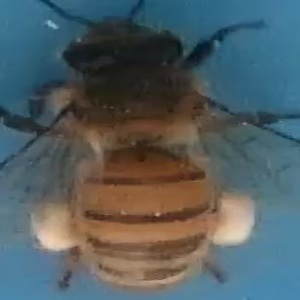bee: (7, 2, 298, 297)
